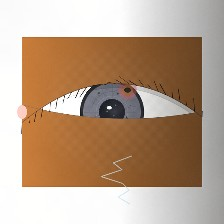foreign_body_visible: (110, 76, 145, 104)
